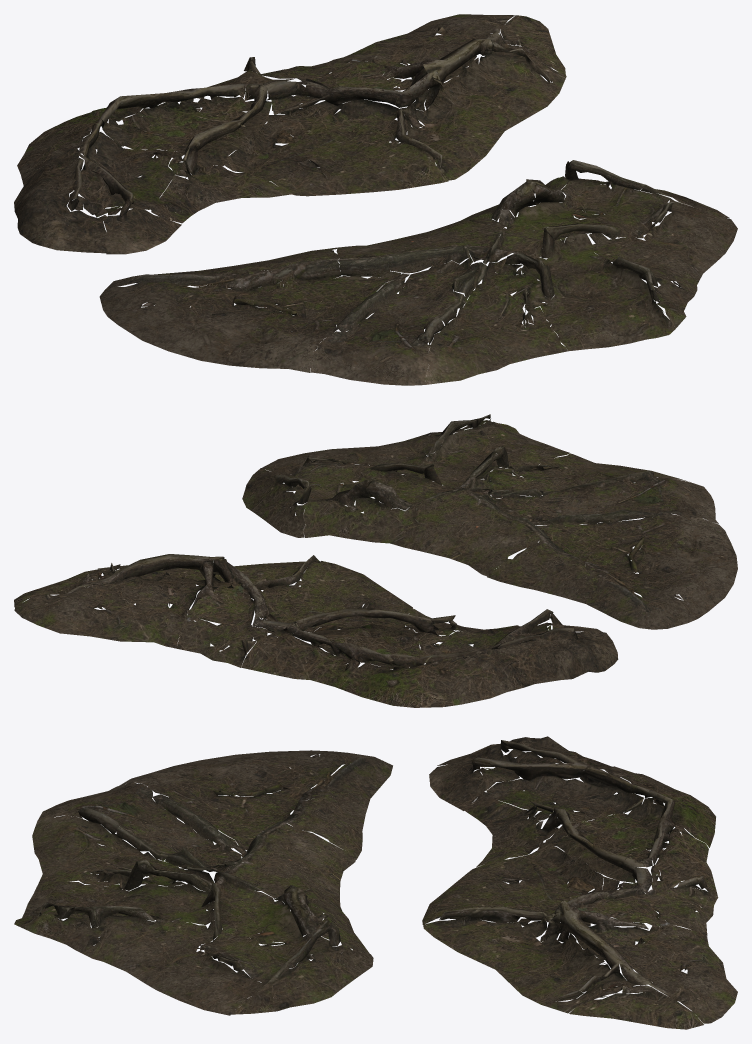
The model's file is kf_roots.glb.
3 renders of one model, top to bottom at view 1: azimuth 30°, elevation 25°; view 2: azimuth 150°, elevation 25°; view 3: azimuth 270°, elevation 25°, orthographic. The views are drawn at different scales.
Visible parts, largest first — view 1: pine_roots_b, pine_roots_a; view 2: pine_roots_b, pine_roots_a; view 3: pine_roots_b, pine_roots_a.
Boxes of the visible parts, left/top/right/bottom form: pine_roots_b: left=99, top=160, right=737, bottom=385; pine_roots_a: left=14, top=14, right=566, bottom=254; pine_roots_b: left=242, top=414, right=737, bottom=629; pine_roots_a: left=14, top=554, right=618, bottom=707; pine_roots_b: left=14, top=750, right=392, bottom=1015; pine_roots_a: left=422, top=736, right=737, bottom=1029.
Size of the model in its own units: 1.77 by 0.1574 by 1.89.
2 materials, 2 textured.
